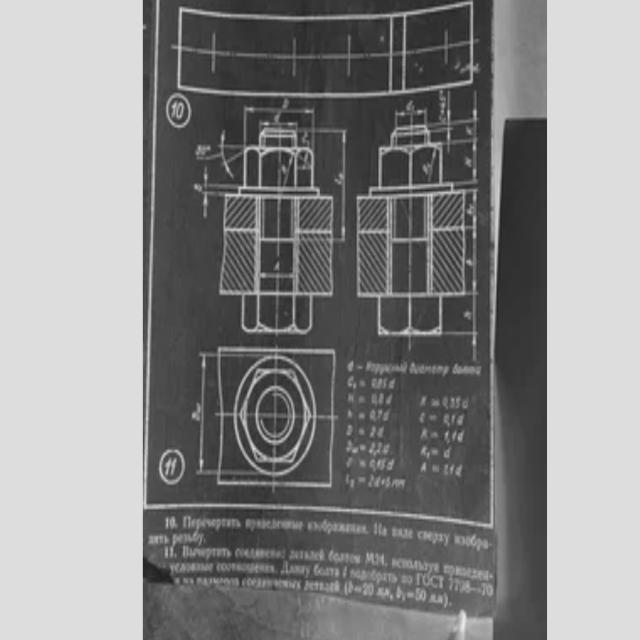marking_line: (445, 90, 479, 182), (197, 349, 217, 478), (443, 299, 477, 362), (316, 126, 349, 184), (243, 104, 315, 126), (335, 127, 348, 243), (201, 165, 224, 221), (219, 131, 243, 181), (200, 168, 238, 189), (467, 226, 477, 297), (201, 189, 223, 219), (396, 107, 429, 124), (466, 188, 477, 231), (262, 269, 292, 282), (259, 119, 298, 129), (425, 150, 436, 182), (283, 157, 293, 185), (471, 143, 478, 178), (446, 90, 451, 120), (472, 90, 477, 119), (446, 131, 451, 154)
